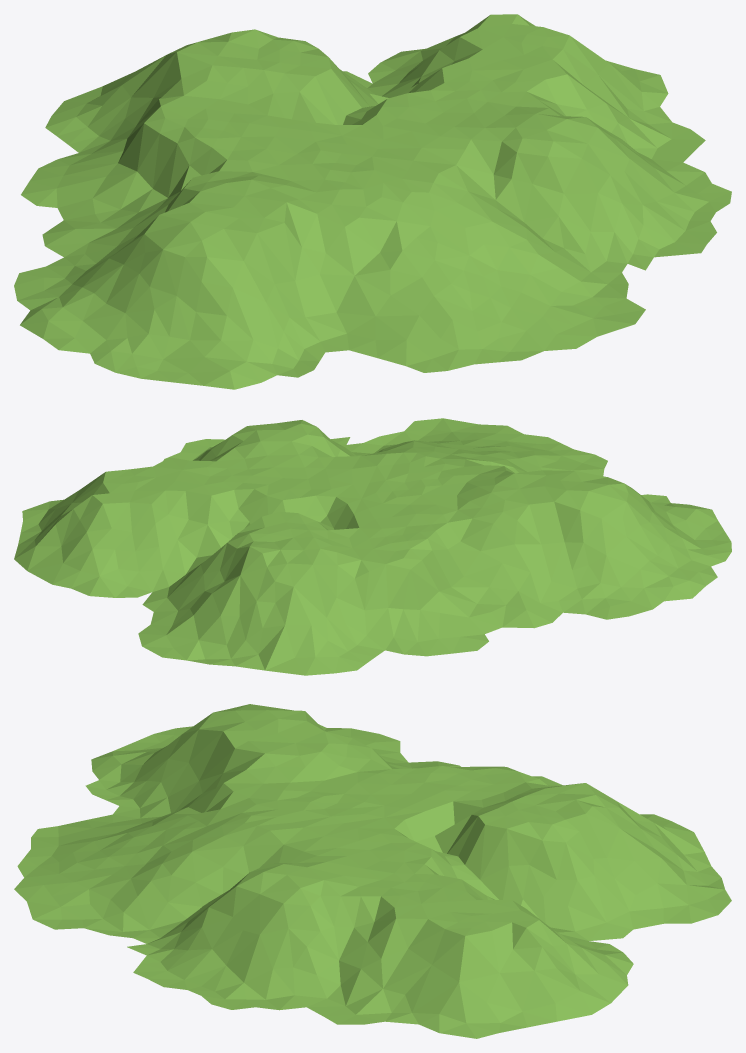
Rendered from MT_Mountain_L_c_09.fbx.
The picture shows the model from 3 angles, top to bottom: view 1: azimuth 30°, elevation 25°; view 2: azimuth 150°, elevation 25°; view 3: azimuth 270°, elevation 25°; orthographic projection. The views are drawn at different scales.
Visible parts, largest first — view 1: MT_Mountain_L_c_09; view 2: MT_Mountain_L_c_09; view 3: MT_Mountain_L_c_09.
Part boxes in pixels (<box>): MT_Mountain_L_c_09: <box>14,14,731,389</box>; MT_Mountain_L_c_09: <box>14,418,731,675</box>; MT_Mountain_L_c_09: <box>14,704,731,1038</box>.
Bounding box in the file's own units: 8829 × 999 × 8354.
